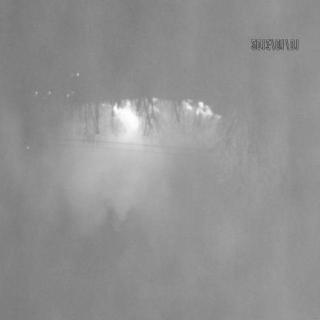Fire: (105, 94, 163, 144), (184, 97, 228, 121)
